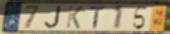1: (112, 5, 125, 31)
5: (131, 6, 148, 31)
7: (24, 4, 41, 30)
J: (44, 5, 63, 29)
K: (64, 5, 84, 30)
T: (90, 5, 106, 29)
